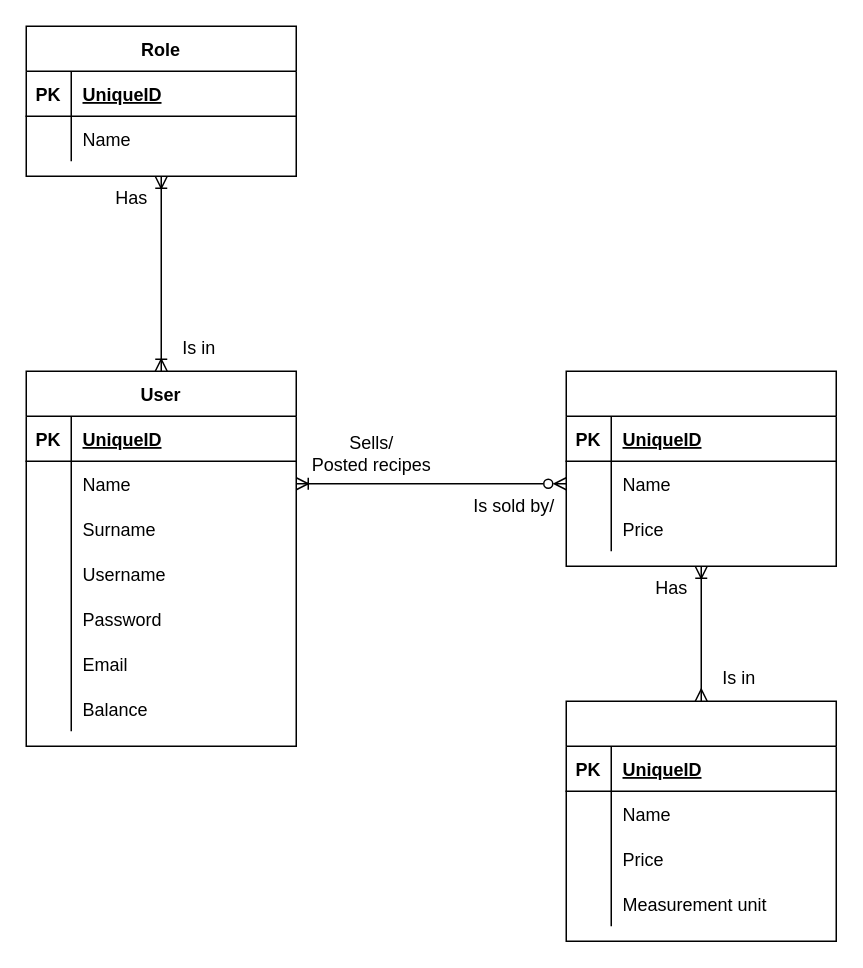
The diagram is 863 pixels wide and 968 high, and some of its shapes have lost their labels. The shapes that lost their labels are listed below. From the top down, each one's box as (x1, y1, x2, y2) in pixels, then its label:
(565, 370, 836, 566): Muffin
(565, 700, 836, 941): Ingredient
